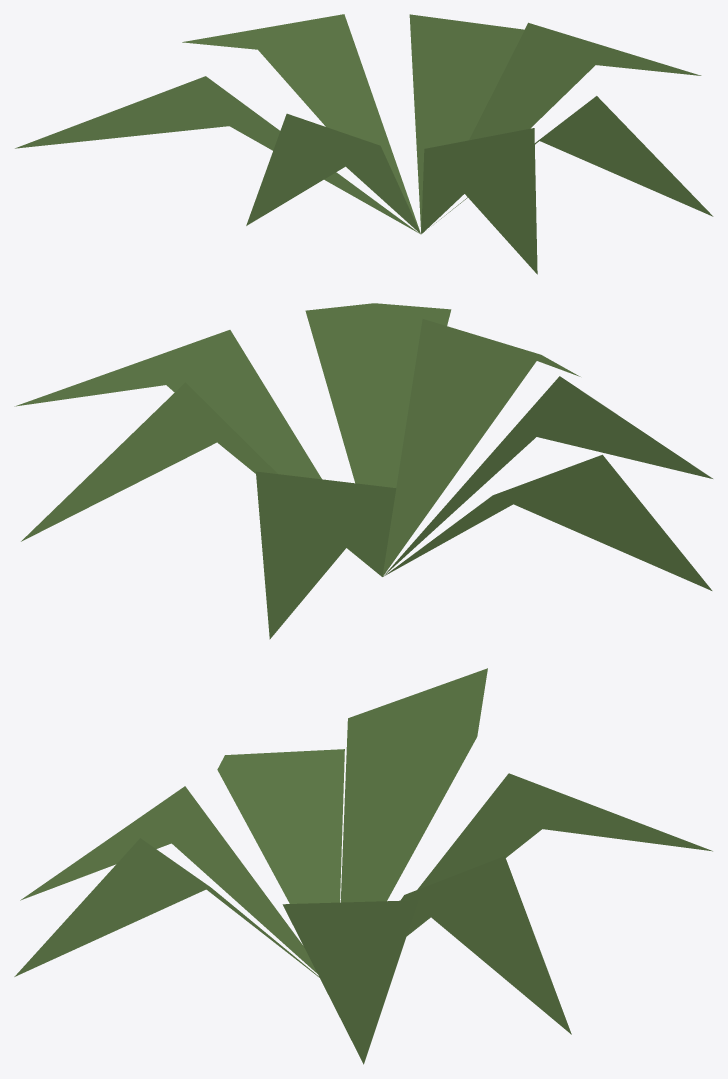
File: fern.glb
3 renders of one model, top to bottom at view 1: azimuth 30°, elevation 25°; view 2: azimuth 150°, elevation 25°; view 3: azimuth 270°, elevation 25°, orthographic. The views are drawn at different scales.
Parts seen in each view (by area): view 1: fern frond.001, fern frond.002, fern frond.005, fern frond, fern frond.003, fern frond.004, fern frond.006; view 2: fern frond.005, fern frond.006, fern frond.002, fern frond, fern frond.003, fern frond.001, fern frond.004; view 3: fern frond.003, fern frond.004, fern frond, fern frond.001, fern frond.002, fern frond.005, fern frond.006.
Part boxes in pixels (bbox=[...]): fern frond.001: bbox=[409, 14, 524, 232]; fern frond.002: bbox=[182, 14, 420, 232]; fern frond.005: bbox=[421, 128, 537, 274]; fern frond: bbox=[469, 22, 701, 140]; fern frond.003: bbox=[15, 76, 419, 233]; fern frond.004: bbox=[246, 113, 420, 233]; fern frond.006: bbox=[436, 96, 713, 222]; fern frond.005: bbox=[382, 319, 580, 576]; fern frond.006: bbox=[305, 303, 451, 487]; fern frond.002: bbox=[256, 471, 396, 639]; fern frond: bbox=[14, 330, 321, 479]; fern frond.003: bbox=[383, 454, 712, 590]; fern frond.001: bbox=[21, 382, 374, 570]; fern frond.004: bbox=[383, 376, 712, 576]; fern frond.003: bbox=[340, 668, 487, 902]; fern frond.004: bbox=[217, 749, 344, 903]; fern frond: bbox=[282, 900, 418, 1064]; fern frond.001: bbox=[400, 856, 571, 1034]; fern frond.002: bbox=[406, 773, 712, 936]; fern frond.005: bbox=[20, 786, 317, 973]; fern frond.006: bbox=[14, 838, 319, 977].
Size of the model in its own units: 0.4842 by 0.11 by 0.41.
